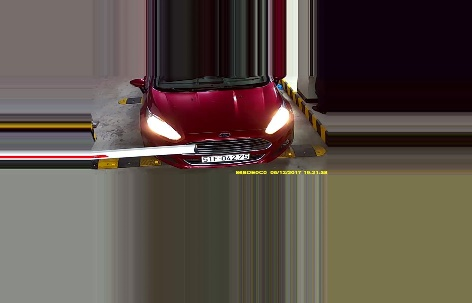plate: (199, 151, 250, 163)
